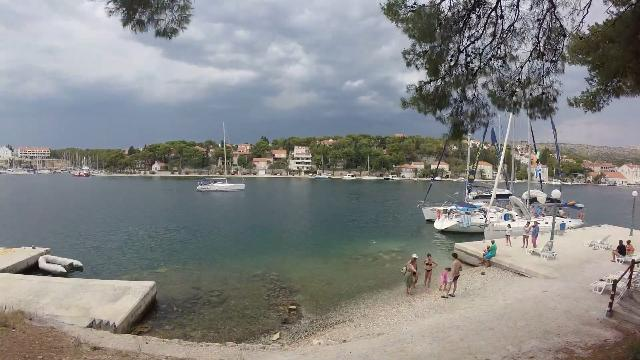Sailboat: (192, 176, 250, 197)
